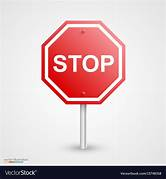stop: (40, 20, 127, 104)
